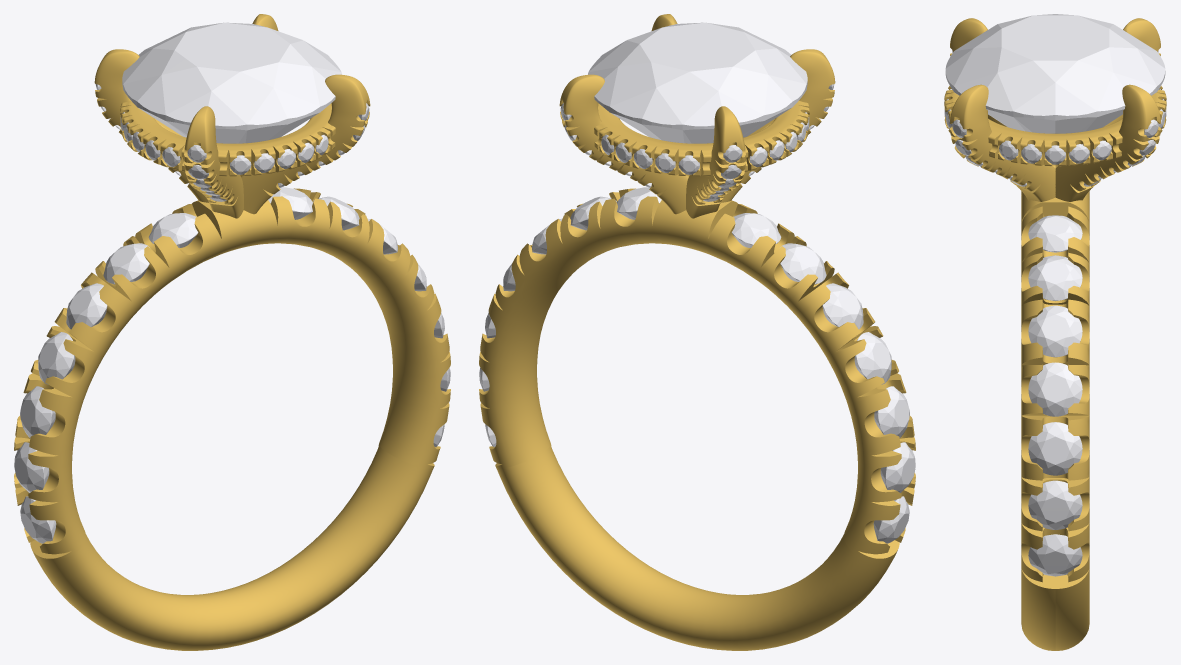
The model's file is test-ring-02.glb.
3 views of the same model, side by side, from view 1: azimuth 30°, elevation 25°; view 2: azimuth 150°, elevation 25°; view 3: azimuth 270°, elevation 25° (orthographic).
Parts seen in each view (by area): view 1: Shank, Diamond_Round_Center, Head_01, Head_03, Head_02, Head_04, Diamond_Side_11, Diamond_Side_10, Diamond_Side_09, Diamond_Side_12, Diamond_Side_08, Diamond_Side_13 (+2 smaller); view 2: Shank, Diamond_Round_Center, Head_01, Head_05, Head_04, Head_02, Diamond_Side_11, Diamond_Side_10, Diamond_Side_09, Diamond_Side_12, Diamond_Side_08, Diamond_Side_13 (+2 smaller); view 3: Diamond_Round_Center, Shank, Head_05, Head_03, Head_01, Diamond_Side_04, Diamond_Side_05, Diamond_Side_03, Diamond_Side_06, Diamond_Side_02, Diamond_Side_07, Diamond_Side_01 (+2 smaller).
Boxes of the visible parts, x1=… form: Shank: x1=14, y1=188, x2=450, y2=650; Diamond_Round_Center: x1=122, y1=22, x2=341, y2=143; Head_01: x1=120, y1=101, x2=335, y2=176; Head_03: x1=240, y1=74, x2=370, y2=214; Head_02: x1=184, y1=106, x2=243, y2=218; Head_04: x1=94, y1=49, x2=208, y2=202; Diamond_Side_11: x1=38, y1=332, x2=75, y2=384; Diamond_Side_10: x1=66, y1=283, x2=107, y2=329; Diamond_Side_09: x1=103, y1=243, x2=149, y2=284; Diamond_Side_12: x1=20, y1=386, x2=55, y2=438; Diamond_Side_08: x1=148, y1=213, x2=198, y2=247; Diamond_Side_13: x1=14, y1=442, x2=49, y2=492; Shank: x1=479, y1=188, x2=915, y2=650; Diamond_Round_Center: x1=588, y1=22, x2=807, y2=143; Head_01: x1=594, y1=101, x2=809, y2=176; Head_05: x1=559, y1=74, x2=689, y2=214; Head_04: x1=686, y1=106, x2=745, y2=218; Head_02: x1=721, y1=49, x2=835, y2=202; Diamond_Side_11: x1=854, y1=332, x2=891, y2=384; Diamond_Side_10: x1=822, y1=283, x2=863, y2=329; Diamond_Side_09: x1=780, y1=243, x2=826, y2=284; Diamond_Side_12: x1=874, y1=386, x2=909, y2=438; Diamond_Side_08: x1=731, y1=213, x2=781, y2=247; Diamond_Side_13: x1=880, y1=442, x2=915, y2=492; Diamond_Round_Center: x1=945, y1=14, x2=1165, y2=133; Shank: x1=1021, y1=191, x2=1089, y2=650; Head_05: x1=1055, y1=84, x2=1160, y2=201; Head_03: x1=950, y1=84, x2=1055, y2=201; Head_01: x1=944, y1=86, x2=1166, y2=166; Diamond_Side_04: x1=1028, y1=362, x2=1082, y2=416; Diamond_Side_05: x1=1028, y1=422, x2=1082, y2=475; Diamond_Side_03: x1=1028, y1=305, x2=1082, y2=357; Diamond_Side_06: x1=1028, y1=480, x2=1082, y2=529; Diamond_Side_02: x1=1028, y1=255, x2=1082, y2=300; Diamond_Side_07: x1=1028, y1=534, x2=1082, y2=576; Diamond_Side_01: x1=1028, y1=215, x2=1082, y2=252.
Bounding box in the file's own units: 0.0206 × 0.0277 × 0.00947.
